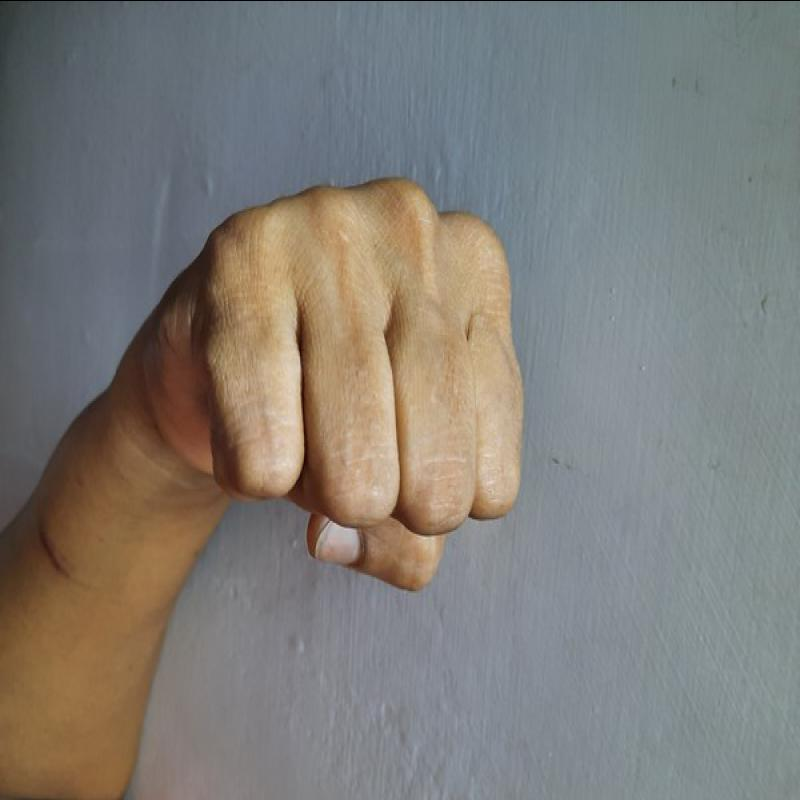Mushti: (162, 167, 537, 601)
